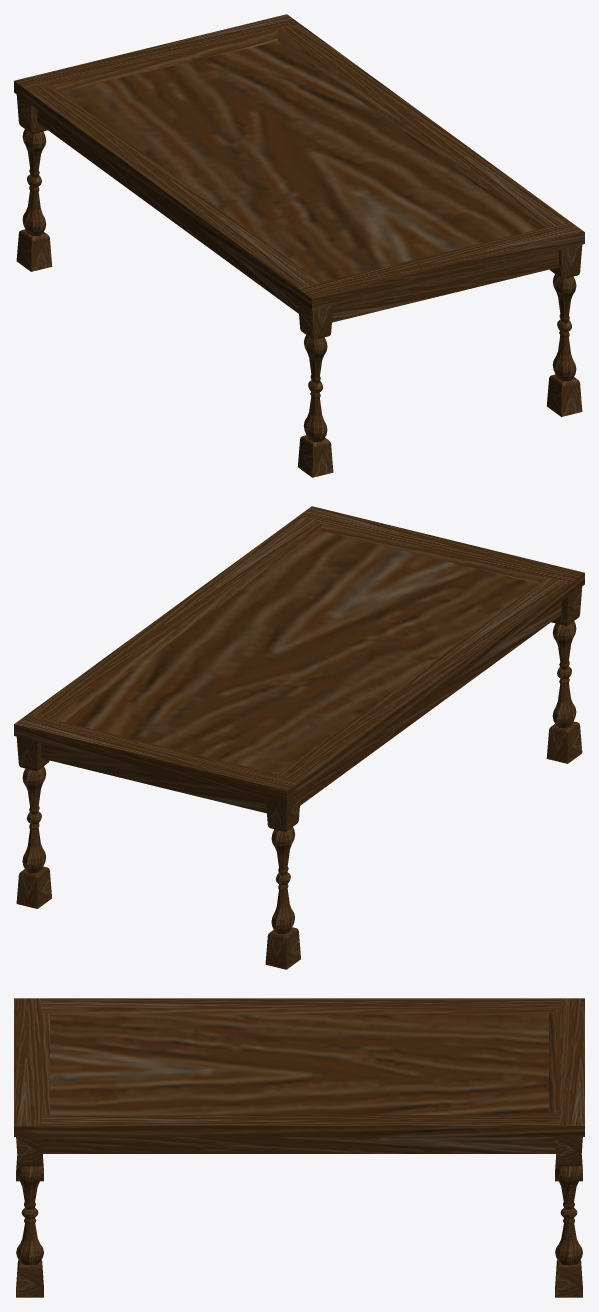
Rendered from Tisch.fbx.
3 views of the same model, one above another, from view 1: azimuth 30°, elevation 25°; view 2: azimuth 150°, elevation 25°; view 3: azimuth 270°, elevation 25° (orthographic). The views are drawn at different scales.
Parts seen in each view (by area): view 1: Tisch1; view 2: Tisch1; view 3: Tisch1.
Part boxes in pixels (bbox=[...]): Tisch1: bbox=[14, 14, 584, 477]; Tisch1: bbox=[14, 506, 584, 969]; Tisch1: bbox=[14, 998, 584, 1297].
Size of the model in its own units: 1.52 by 0.96 by 2.88.
1 material, 1 textured.
